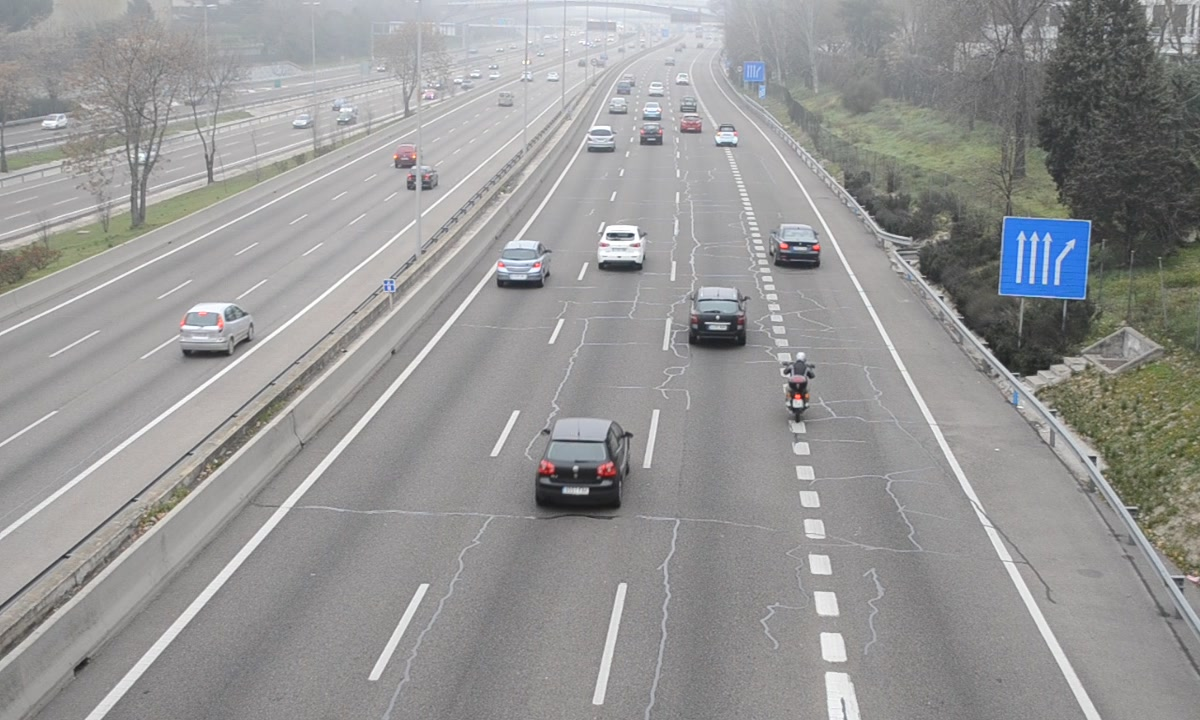car: (536, 419, 629, 506), (689, 286, 745, 346), (494, 240, 550, 286), (772, 224, 822, 267), (599, 226, 647, 268), (586, 125, 617, 155), (640, 120, 665, 146), (716, 122, 740, 149)
motorcycle: (781, 350, 818, 425)
